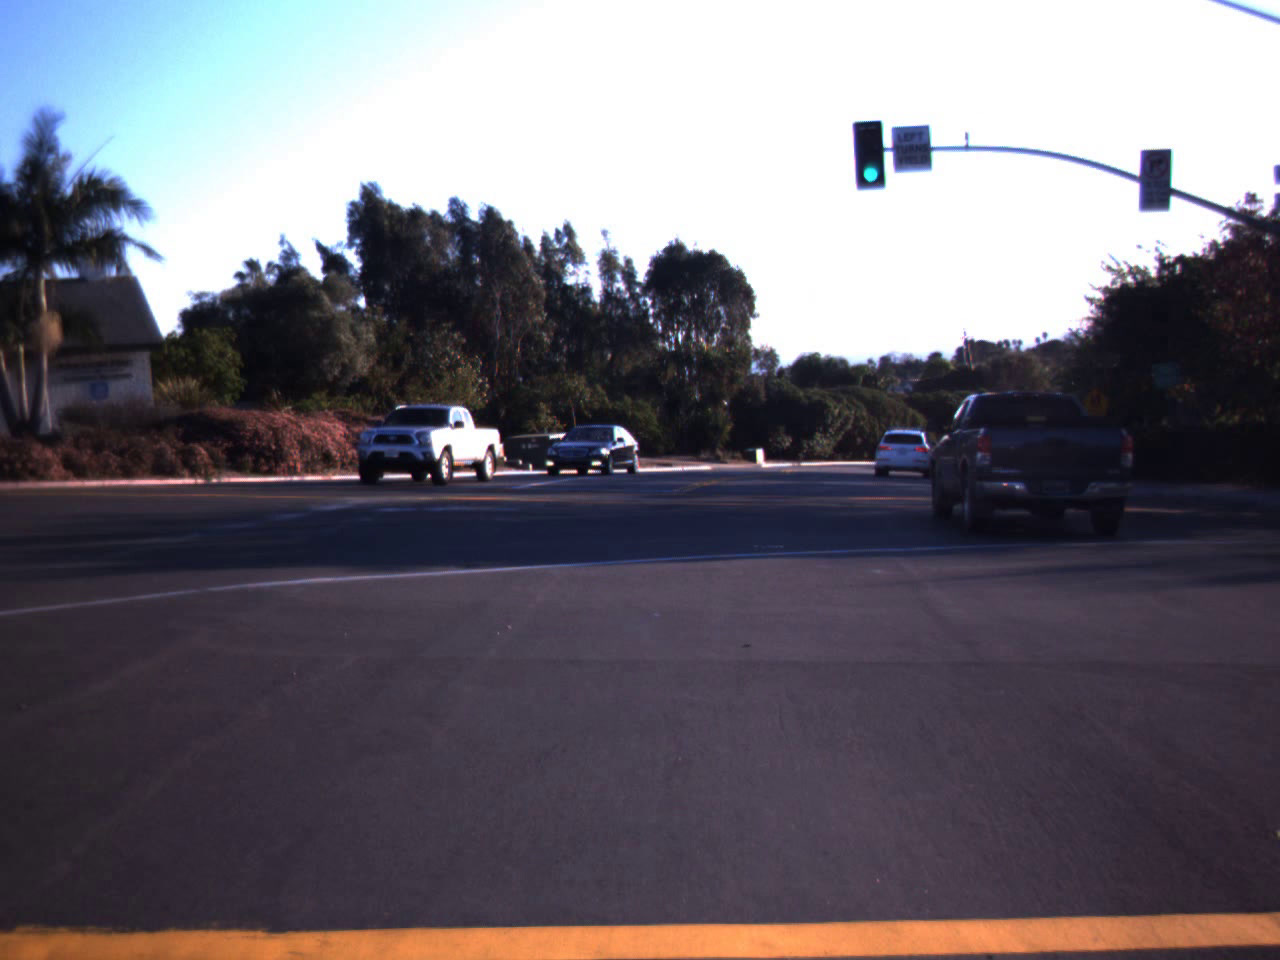go: (851, 122, 890, 187)
